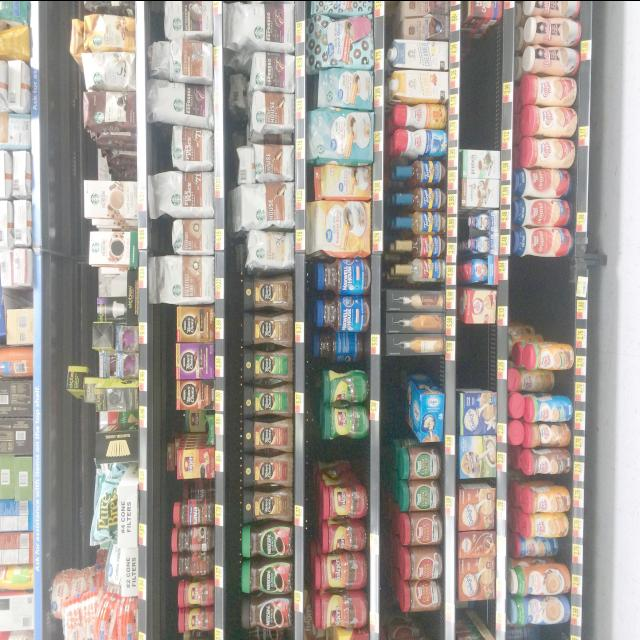empty_space: (467, 35, 500, 141), (522, 257, 567, 330), (459, 329, 489, 383), (318, 441, 360, 471), (394, 360, 442, 384), (391, 616, 432, 640), (464, 605, 491, 632), (184, 413, 209, 440), (174, 481, 210, 495)
